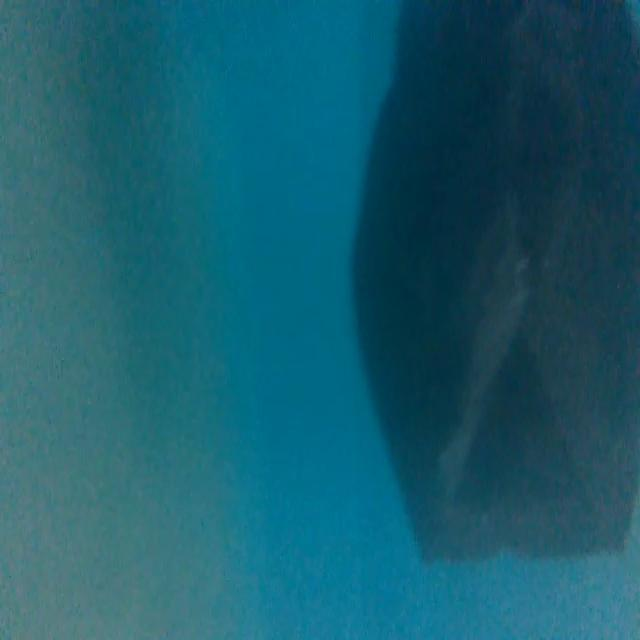plastic bags: (332, 0, 640, 576)
